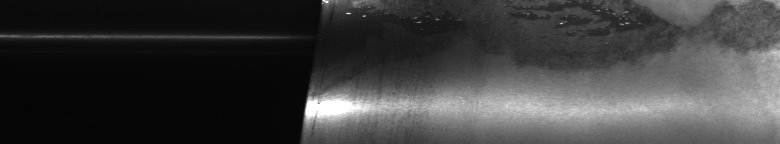ke: (332, 4, 776, 124)
